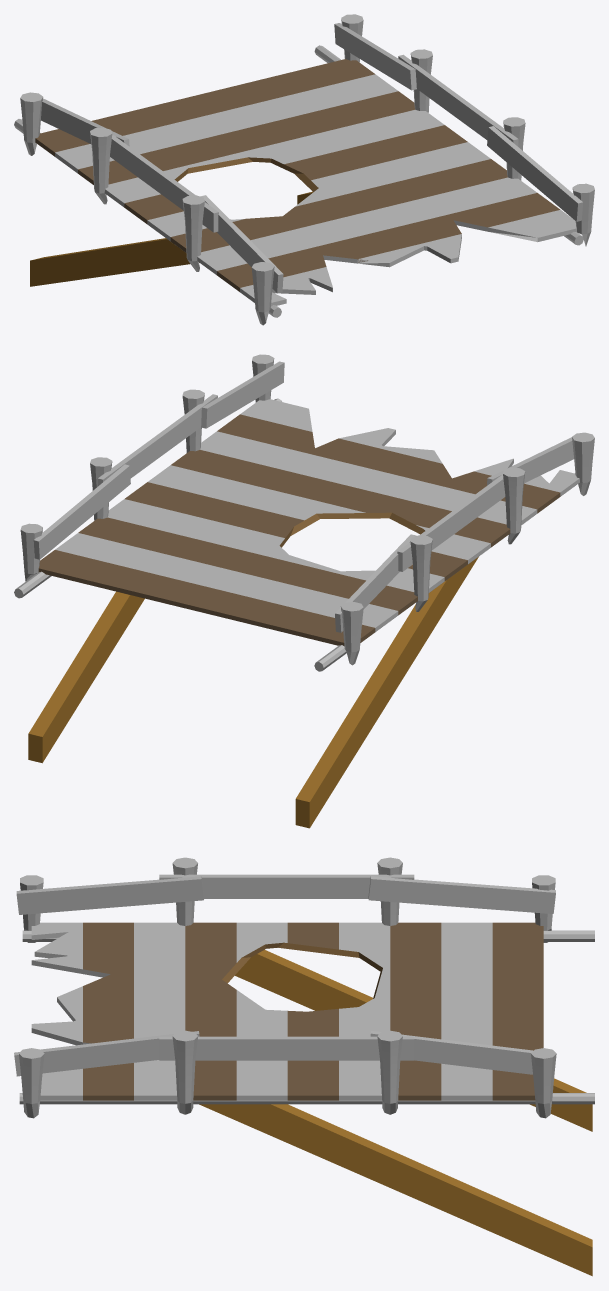
The model's file is BrokenBridge_Two.fbx.
The picture shows the model from 3 angles, top to bottom: view 1: azimuth 30°, elevation 25°; view 2: azimuth 150°, elevation 25°; view 3: azimuth 270°, elevation 25°; orthographic projection. The views are drawn at different scales.
Parts seen in each view (by area): view 1: BrokenBridge_2Legs; view 2: BrokenBridge_2Legs; view 3: BrokenBridge_2Legs.
Boxes of the visible parts, x1,y1,x2,y2 form: BrokenBridge_2Legs: [14, 14, 594, 325]; BrokenBridge_2Legs: [14, 354, 594, 828]; BrokenBridge_2Legs: [14, 857, 594, 1276].
Size of the model in its own units: 8.5 by 5.4 by 11.35.
